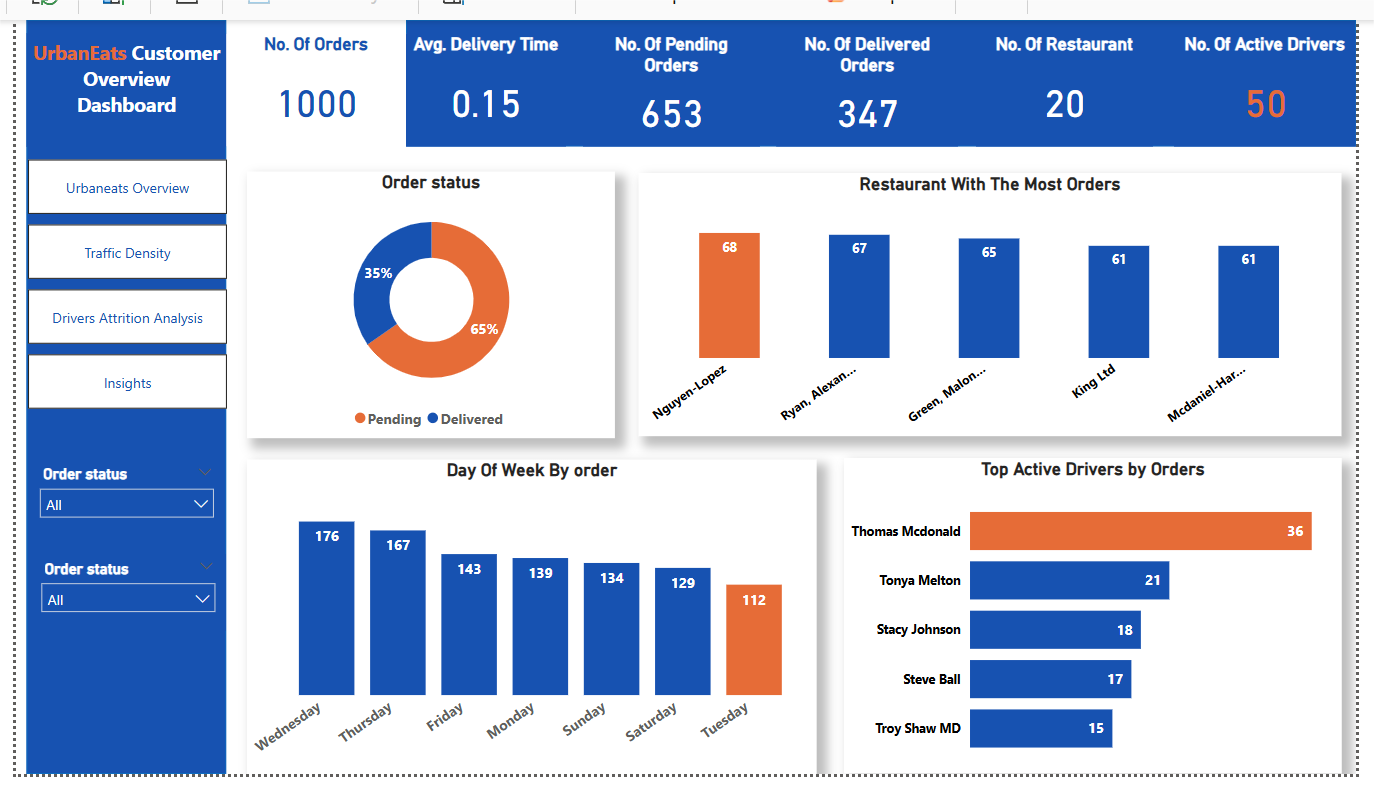

The dashboard page shown, as its layout file describes it:
{"tool":"powerbi","page":{"name":"Urbaneats Overview","canvas":[1280,720],"ordinal":0},"visuals":[{"type":"shape","box":[9.4,0,190.9,720],"z":0},{"type":"shape","box":[372.3,0,907.1,120.9],"z":1000},{"type":"pageNavigator","box":[11.1,133.6,190.9,238.6],"z":2000},{"type":"card","title":"No. Of Orders","fields":{"Values":["CountNonNull(customer_orders.order_id)"]},"box":[200.4,12.7,171.8,108.2],"z":3000},{"type":"card","title":"Avg. Delivery Time","fields":{"Values":["Avg(customer_orders.delivery_hrs)"]},"box":[372.2,12.7,152.7,108.2],"z":4000},{"type":"card","title":"No. Of Pending Orders","fields":{"Values":["CountNonNull(customer_orders.status)"]},"box":[540.8,12.7,168.6,108.2],"z":5000},{"type":"card","title":"No. Of Delivered Orders","fields":{"Values":["CountNonNull(customer_orders.status)"]},"box":[726.9,12.7,173.4,108.2],"z":6000},{"type":"card","title":"No. Of Restaurant","fields":{"Values":["Count(customer_orders.restaurant_id)"]},"box":[916.2,12.7,168.6,108.2],"z":7000},{"type":"card","title":"No. Of Active Drivers","fields":{"Values":["Count(customer_orders.driver_id)"]},"box":[1105.5,12.7,173.4,108.2],"z":8000},{"type":"donutChart","title":"Order status ","fields":{"Category":["customer_orders.status"],"Y":["CountNonNull(customer_orders.status)"]},"box":[221.1,144.7,351.5,254.5],"z":9000},{"type":"columnChart","title":"Restaurant With The Most Orders","fields":{"Y":["CountNonNull(customer_orders.order_id)"],"Category":["restaurants_data.RestaurantName"]},"box":[594.9,146.3,671.2,251.3],"z":10000},{"type":"barChart","title":"Top Active Drivers by Orders","fields":{"Category":["drivers_realistic.DriverName"],"Y":["CountNonNull(customer_orders.order_id)"]},"box":[790.4,417.9,475.5,301.3],"z":11000},{"type":"columnChart","title":"Day Of Week By order","fields":{"Category":["customer_orders.order day"],"Y":["CountNonNull(customer_orders.order_id)"]},"box":[221.1,419.9,544,300.6],"z":12000},{"type":"textbox","box":[9.5,12.7,190.9,108.2],"z":13000},{"type":"slicer","fields":{"Values":["drivers_realistic.DriverName"]},"box":[12.7,419.9,186.1,73.2],"z":14000},{"type":"slicer","fields":{"Values":["customer_orders.order day"]},"box":[14.3,510.6,186.1,73.2],"z":15000}]}

Visuals, with their boxes in screenshot pixels (x1, y1, x2, y2):
shape: 21 14 223 777
shape: 405 14 1365 142
pageNavigator: 22 156 225 408
"No. Of Orders" card: 223 28 405 142
"Avg. Delivery Time" card: 405 28 566 142
"No. Of Pending Orders" card: 583 28 762 142
"No. Of Delivered Orders" card: 780 28 964 142
"No. Of Restaurant" card: 981 28 1159 142
"No. Of Active Drivers" card: 1181 28 1365 142
"Order status " donutChart: 245 167 617 437
"Restaurant With The Most Orders" columnChart: 640 169 1351 435
"Top Active Drivers by Orders" barChart: 847 457 1351 776
"Day Of Week By order" columnChart: 245 459 821 777
textbox: 21 28 223 142
slicer - drivers_realistic.DriverName: 24 459 221 536
slicer - customer_orders.order day: 26 555 223 632
